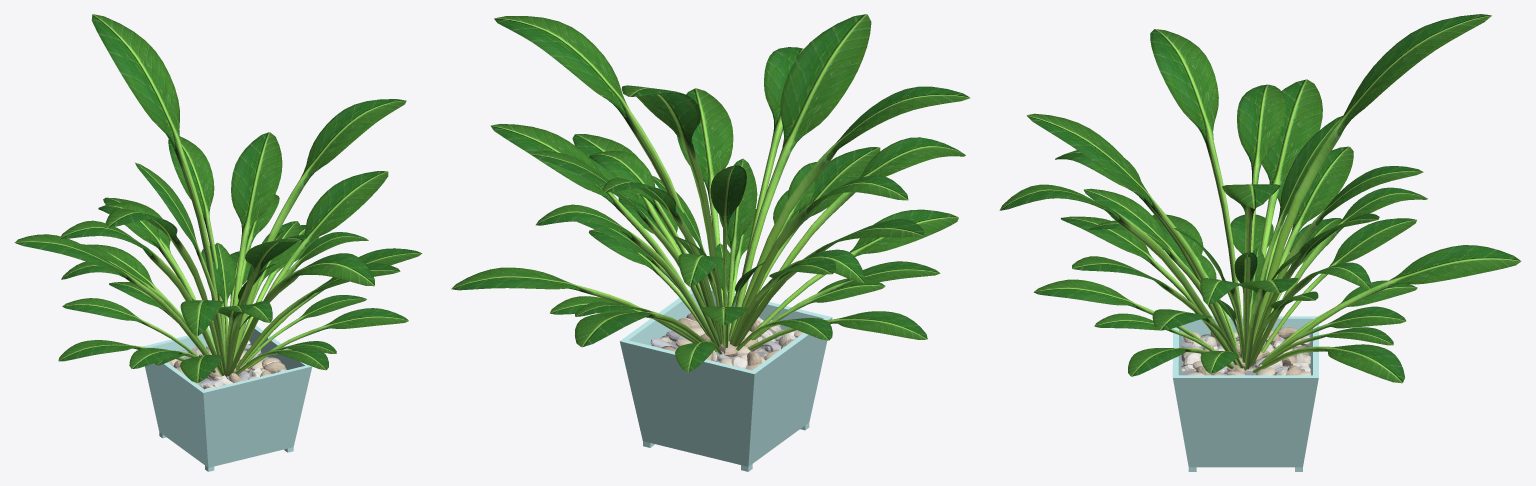
Rendered from plant.glb.
The picture shows the model from 3 angles, left to right: view 1: azimuth 30°, elevation 25°; view 2: azimuth 150°, elevation 25°; view 3: azimuth 270°, elevation 25°; orthographic projection. The views are drawn at different scales.
Visible parts, largest first — view 1: Leaf_Plane.029, Pot_3_Plane.062, Rock_1_Plane.002; view 2: Leaf_Plane.029, Pot_3_Plane.062, Rock_1_Plane.002; view 3: Leaf_Plane.029, Pot_3_Plane.062, Rock_1_Plane.002.
Part boxes in pixels (left/top/right/bottom): Leaf_Plane.029: left=14, top=14, right=422, bottom=383; Pot_3_Plane.062: left=143, top=321, right=311, bottom=471; Rock_1_Plane.002: left=168, top=340, right=286, bottom=389; Leaf_Plane.029: left=451, top=14, right=970, bottom=372; Pot_3_Plane.062: left=620, top=287, right=832, bottom=471; Rock_1_Plane.002: left=650, top=307, right=803, bottom=370; Leaf_Plane.029: left=999, top=14, right=1521, bottom=383; Pot_3_Plane.062: left=1172, top=316, right=1318, bottom=471; Rock_1_Plane.002: left=1181, top=327, right=1310, bottom=375.
Bounding box in the file's own units: 0.4355 × 0.4037 × 0.4587.
Materials: 9 (1 with a texture image).
